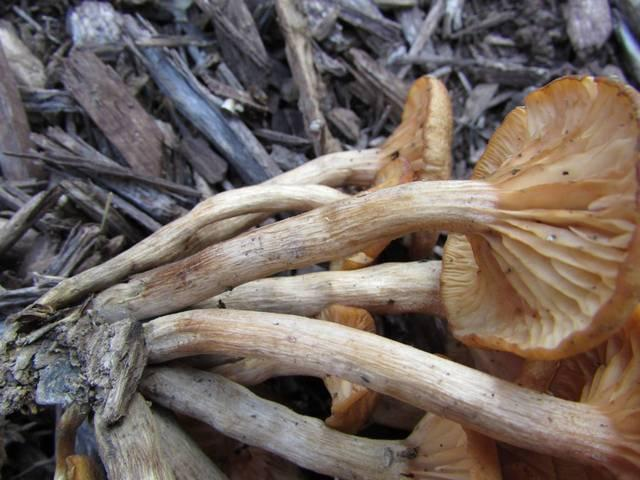edible_mushroom: (10, 71, 638, 478)
